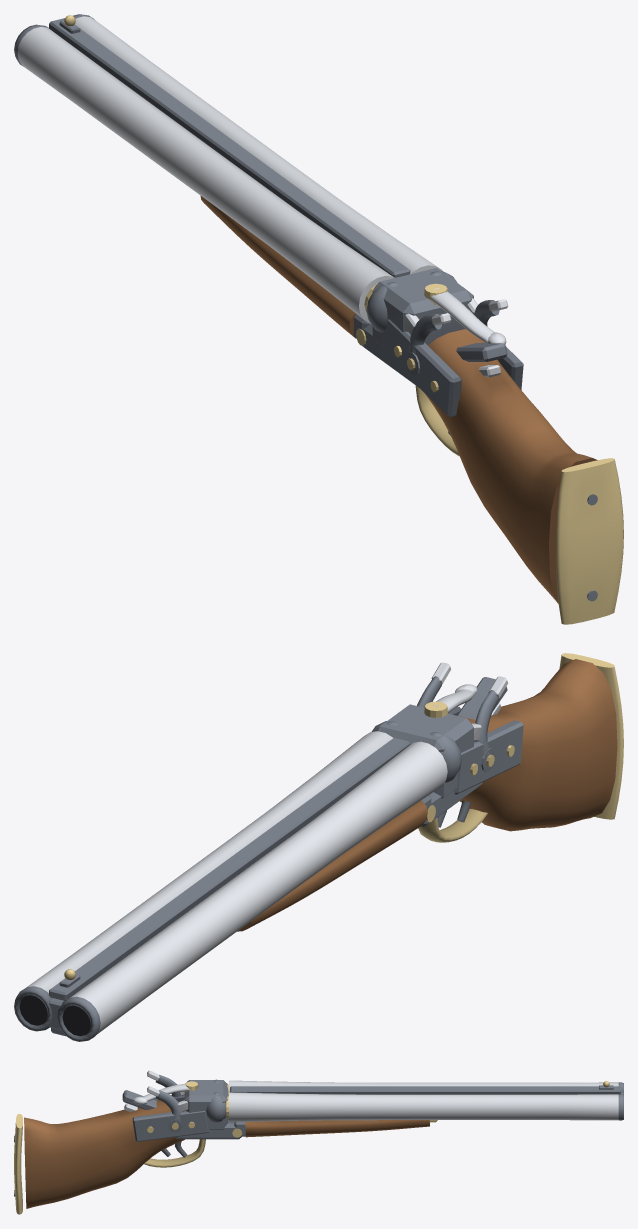
File: shotgun.glb
3 renders of one model, top to bottom at view 1: azimuth 30°, elevation 25°; view 2: azimuth 150°, elevation 25°; view 3: azimuth 270°, elevation 25°, orthographic. The views are drawn at different scales.
Visible parts, largest first — view 1: Body, HammerL; view 2: Body, HammerL, HammerR; view 3: Body, HammerR, HammerL.
Boxes of the visible parts, <box> form: Body: <box>14,14,623,624</box>; HammerL: <box>405,313,451,375</box>; Body: <box>14,653,623,1041</box>; HammerL: <box>472,676,508,772</box>; HammerR: <box>417,662,451,707</box>; Body: <box>14,1079,623,1214</box>; HammerR: <box>147,1086,188,1132</box>; HammerL: <box>147,1070,184,1096</box>.
Size of the model in its own units: 0.0572 by 0.137 by 0.5899.
